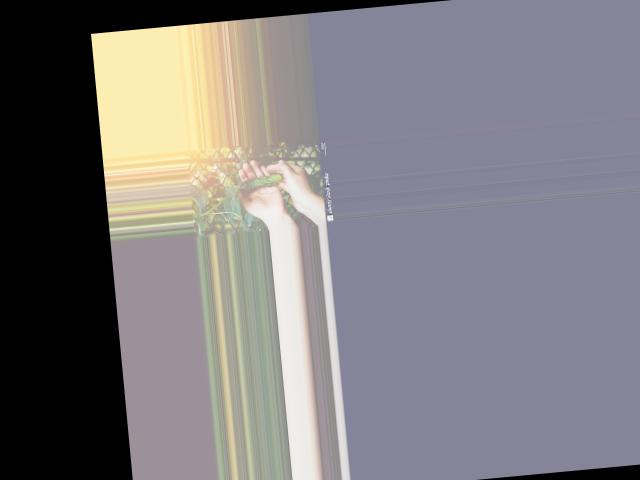cucumber: (238, 172, 283, 192)
